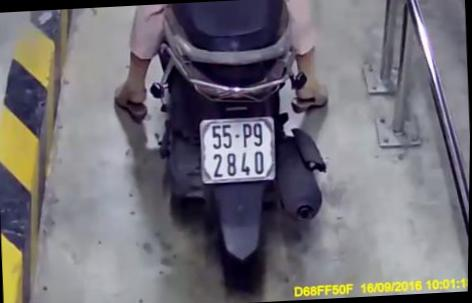LP: (196, 112, 280, 184)
